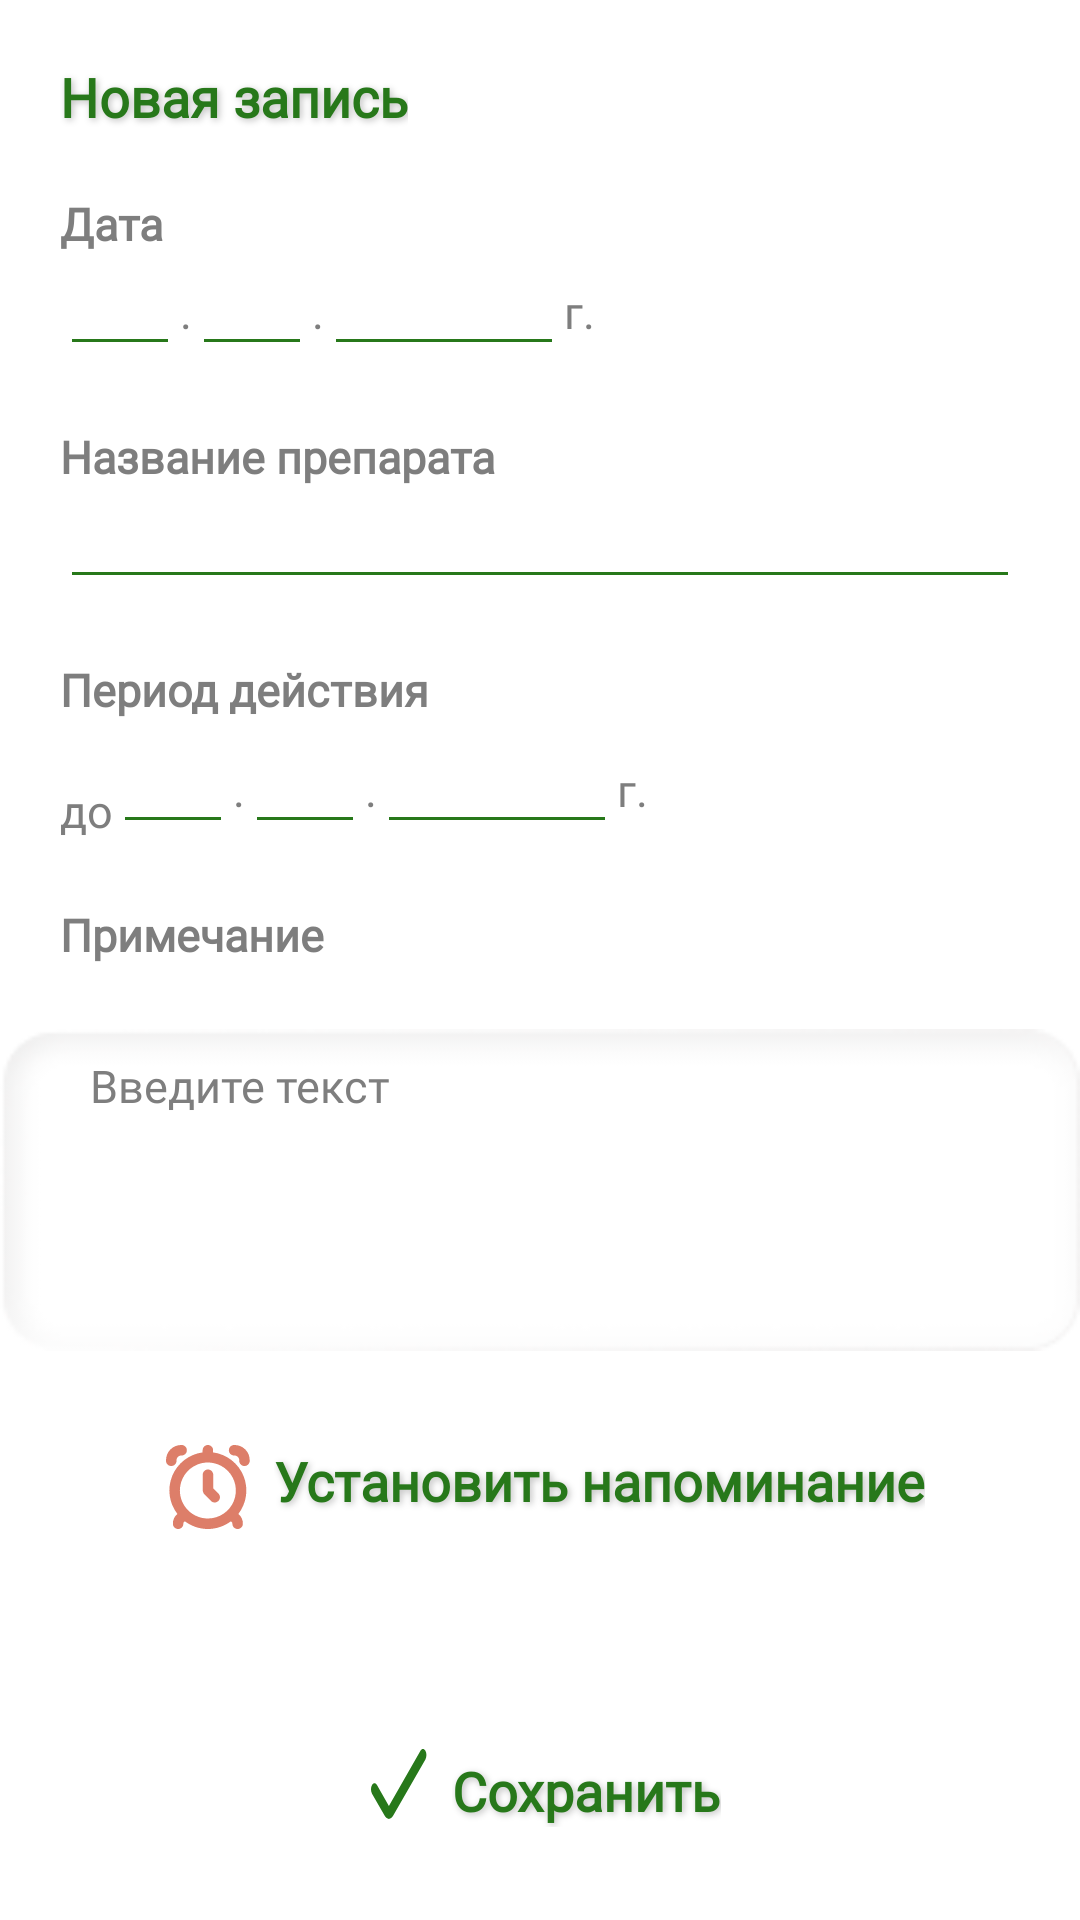

Where to tap for icons on this 1080 x 1920 app screen, as (x=x, y=y):
choice: (x=399, y=1784)
clock: (x=208, y=1487)
